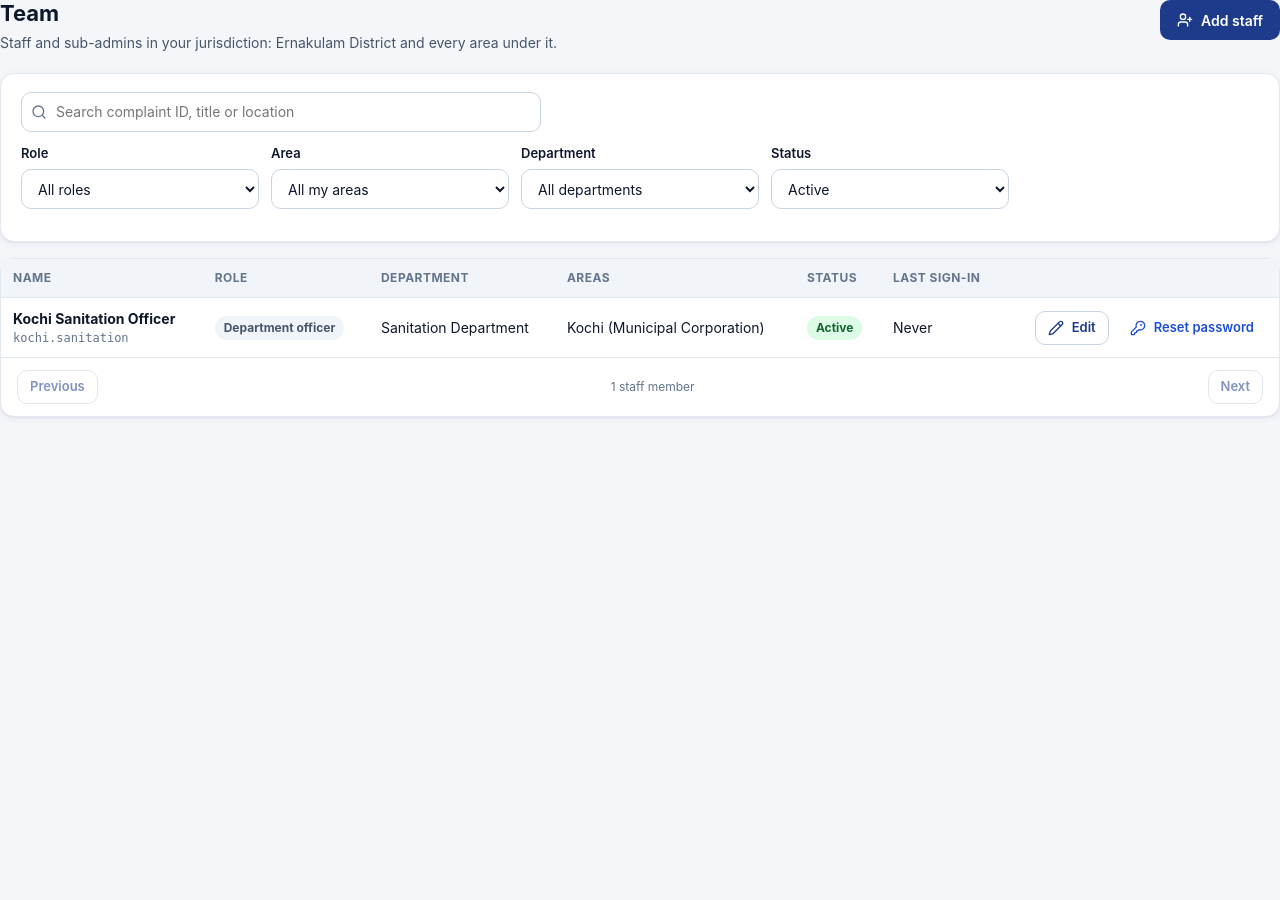
Scenario: TeamPage (hierarchical administration) › requires a department and an area for officers
Click the button "Add staff" at coordinates (1220, 20), box top-left (1160, 0), bottom-right (1279, 40)
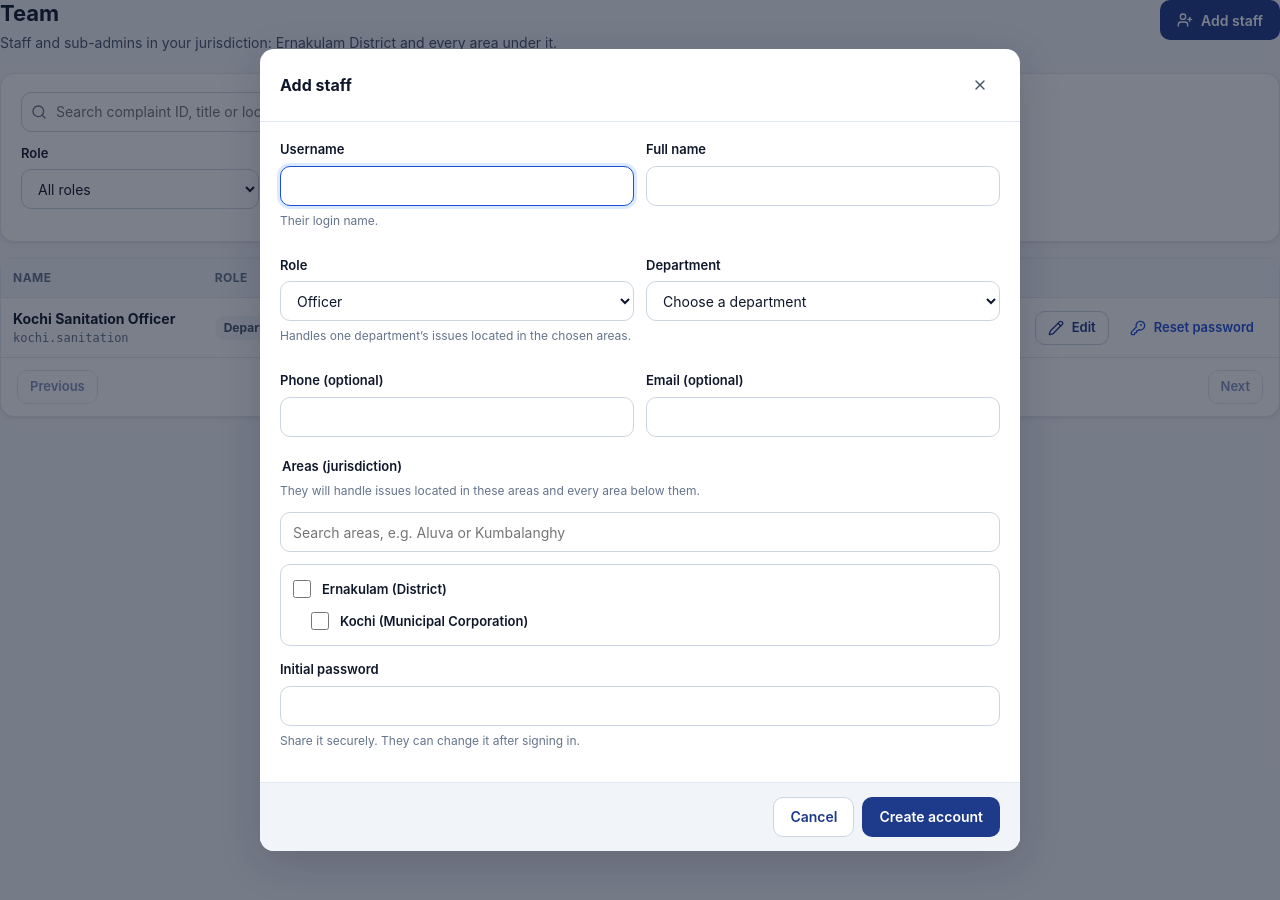
Type "new.officer" into the field labelled "Username" at coordinates (457, 186), box top-left (280, 166), bottom-right (634, 206)
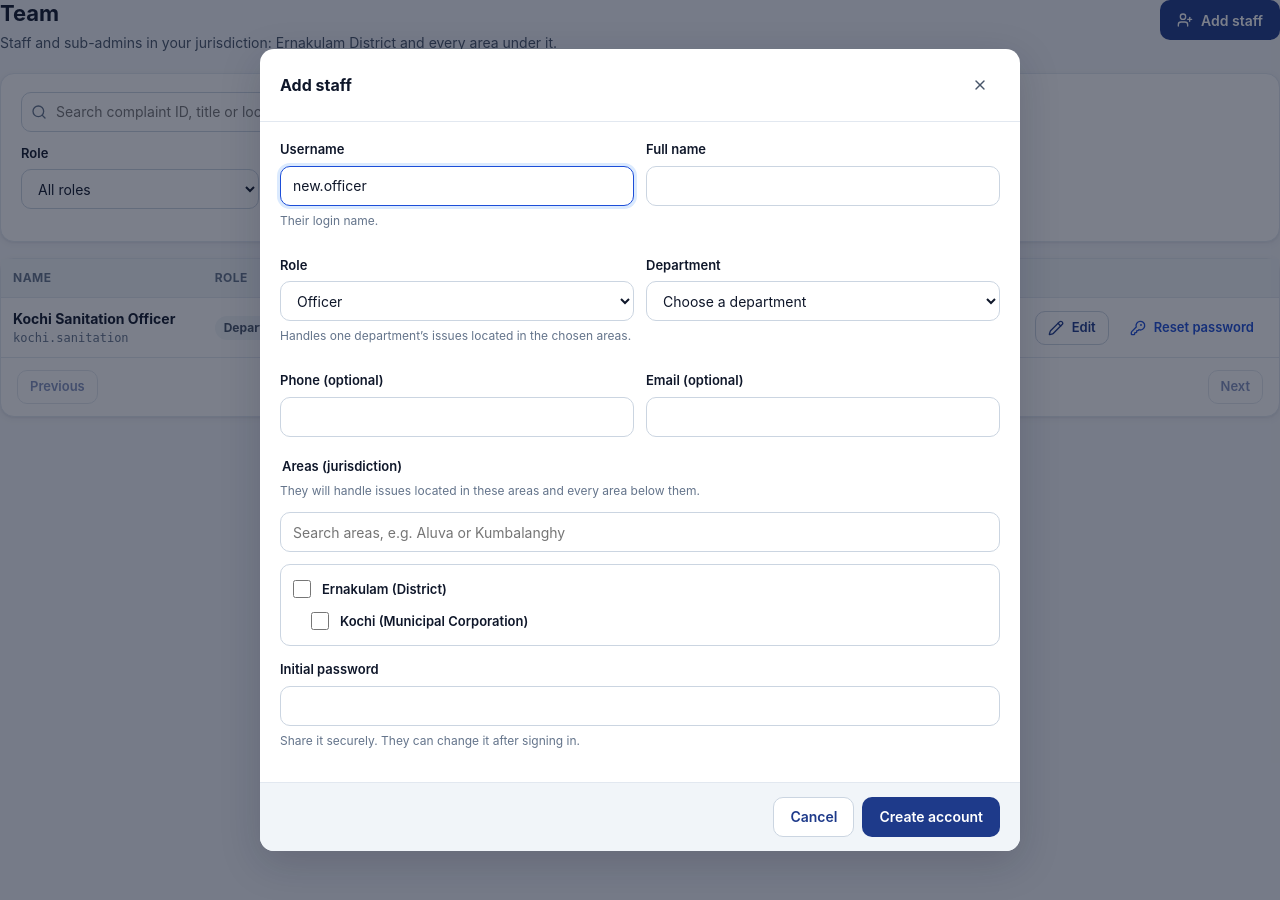
Type "New Officer" into the field labelled "Full name" at coordinates (823, 186), box top-left (646, 166), bottom-right (1000, 206)
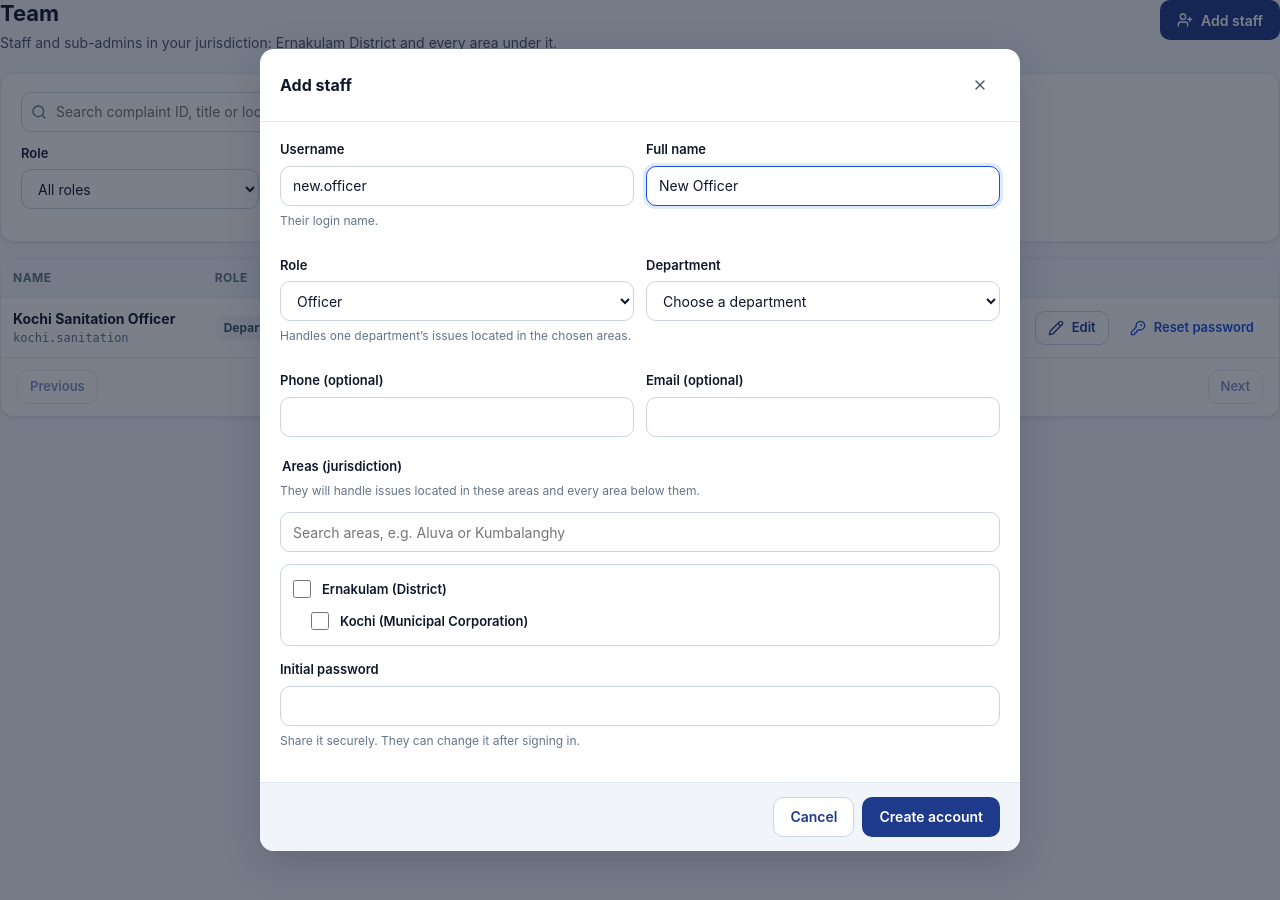
Type "Kochi-Secure-2026" into the password field labelled "Initial password" at coordinates (640, 706), box top-left (280, 686), bottom-right (1000, 726)
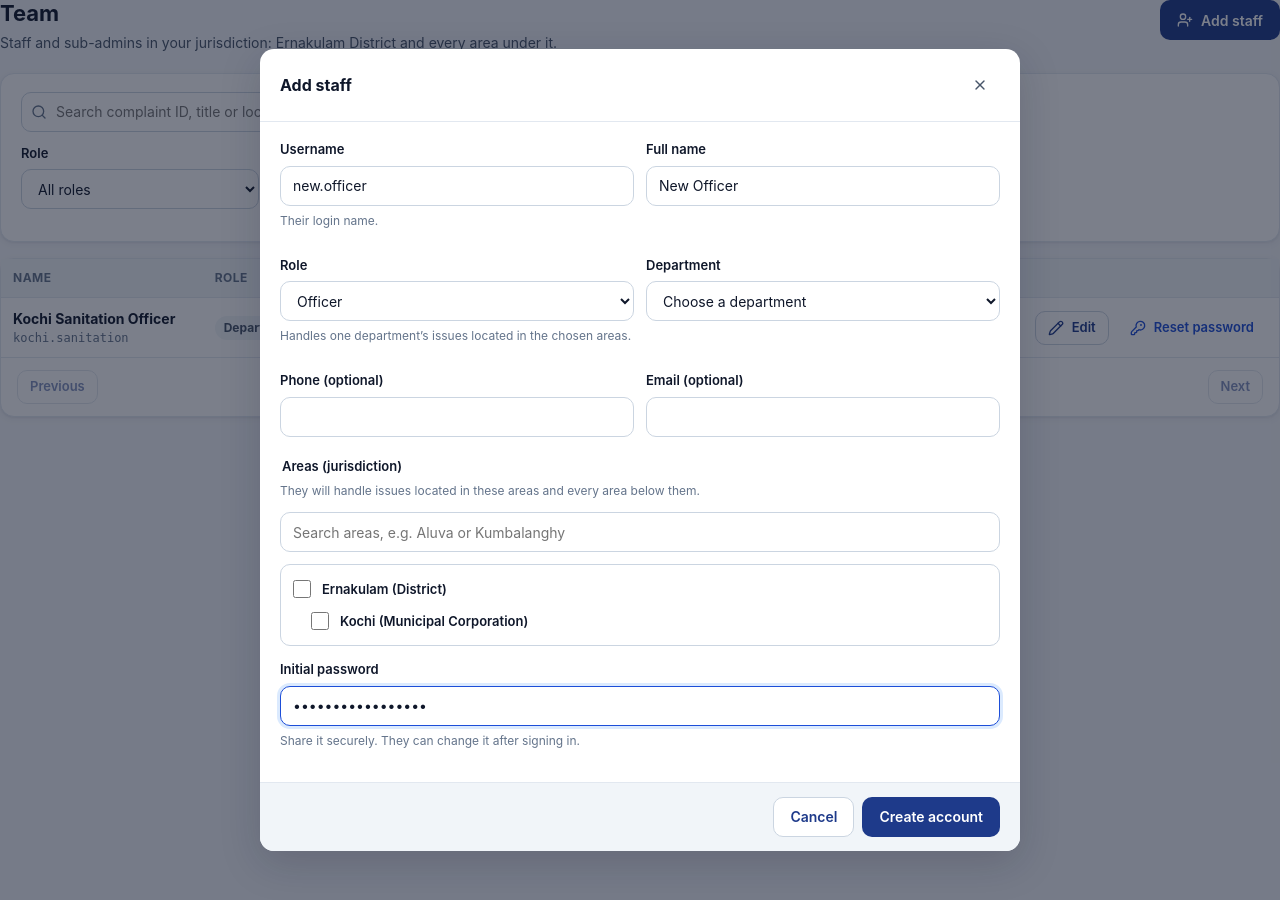
Click the button "Create account" at coordinates (931, 817), box top-left (862, 797), bottom-right (1000, 837)
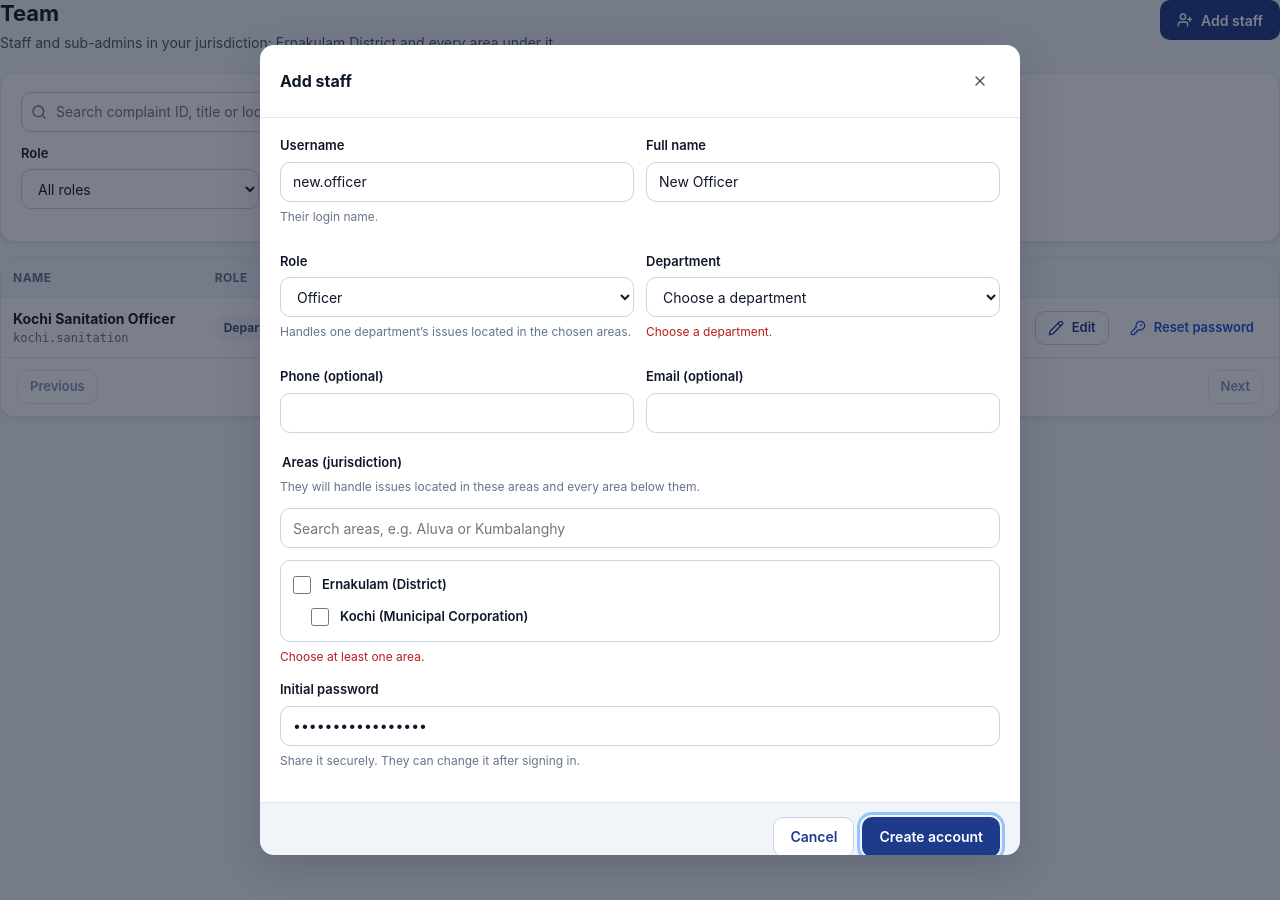
expect the text "Choose a department." is shown: met, box top-left (646, 324), bottom-right (772, 339)
expect the text "Choose at least one area." is shown: met, box top-left (280, 649), bottom-right (424, 664)
